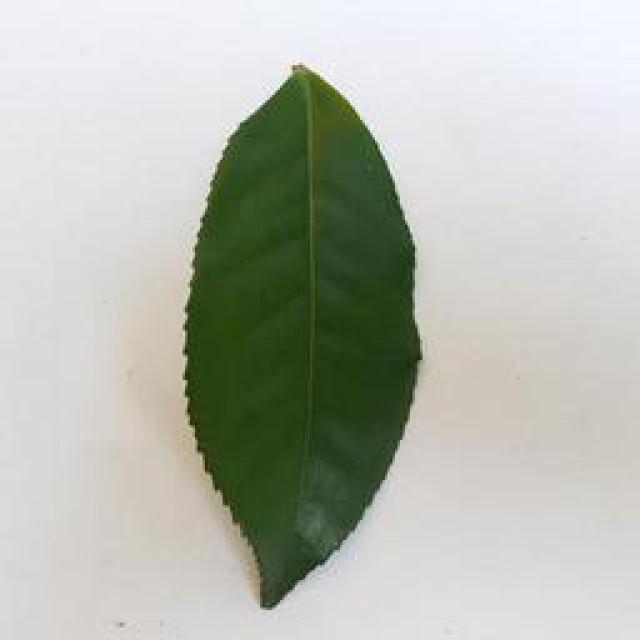Healthy: (176, 57, 433, 610)
